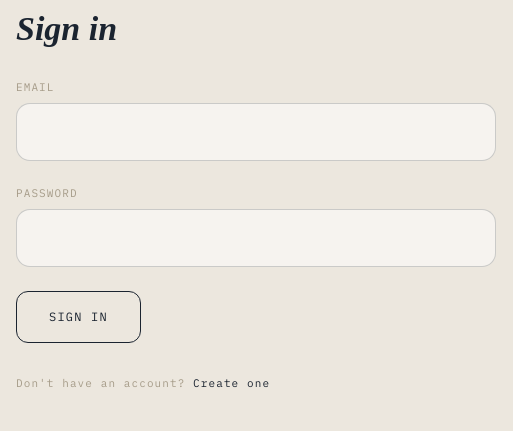
Scenario: LoginView › rejects a password shorter than 8 characters without submitting
Type "user@example.com" into the field with id "email" at [256, 132], box x1=16 y1=103 x2=496 y2=161
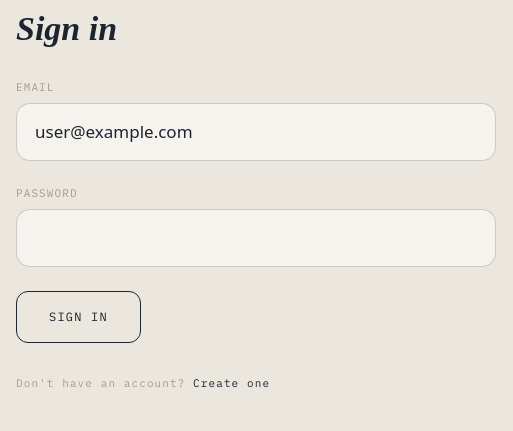
Type "short" into the password field labelled "Password" at [256, 238], box x1=16 y1=209 x2=496 y2=267
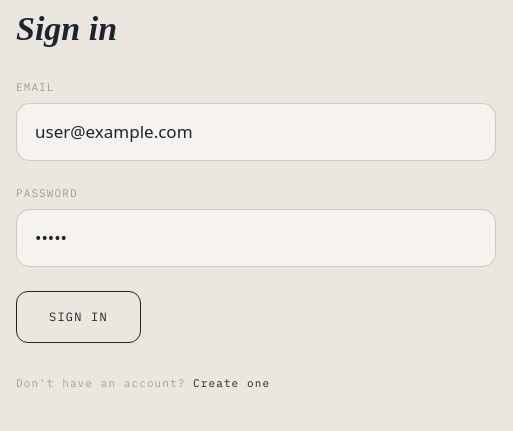
Submit the form, box x1=16 y1=79 x2=496 y2=343
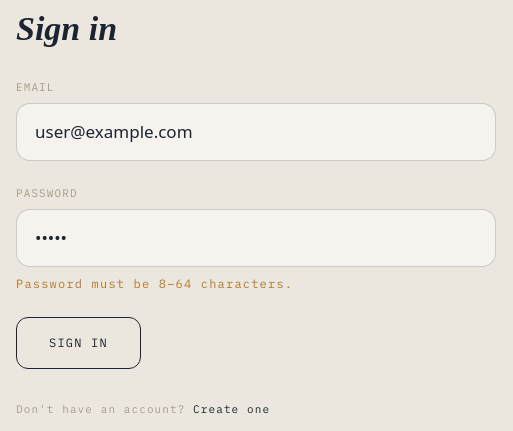
Check: the text "Password must be 8–64 characters." is shown, box x1=16 y1=276 x2=293 y2=291
